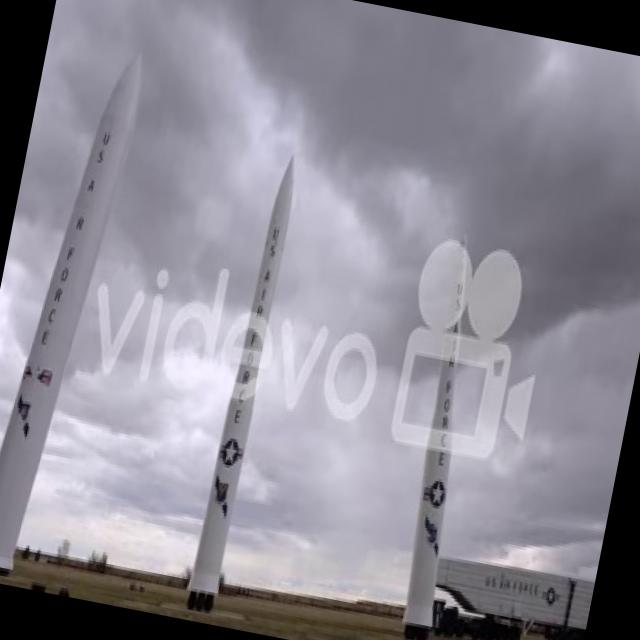rocket: (0, 28, 154, 579), (182, 144, 303, 608), (381, 227, 505, 640)
